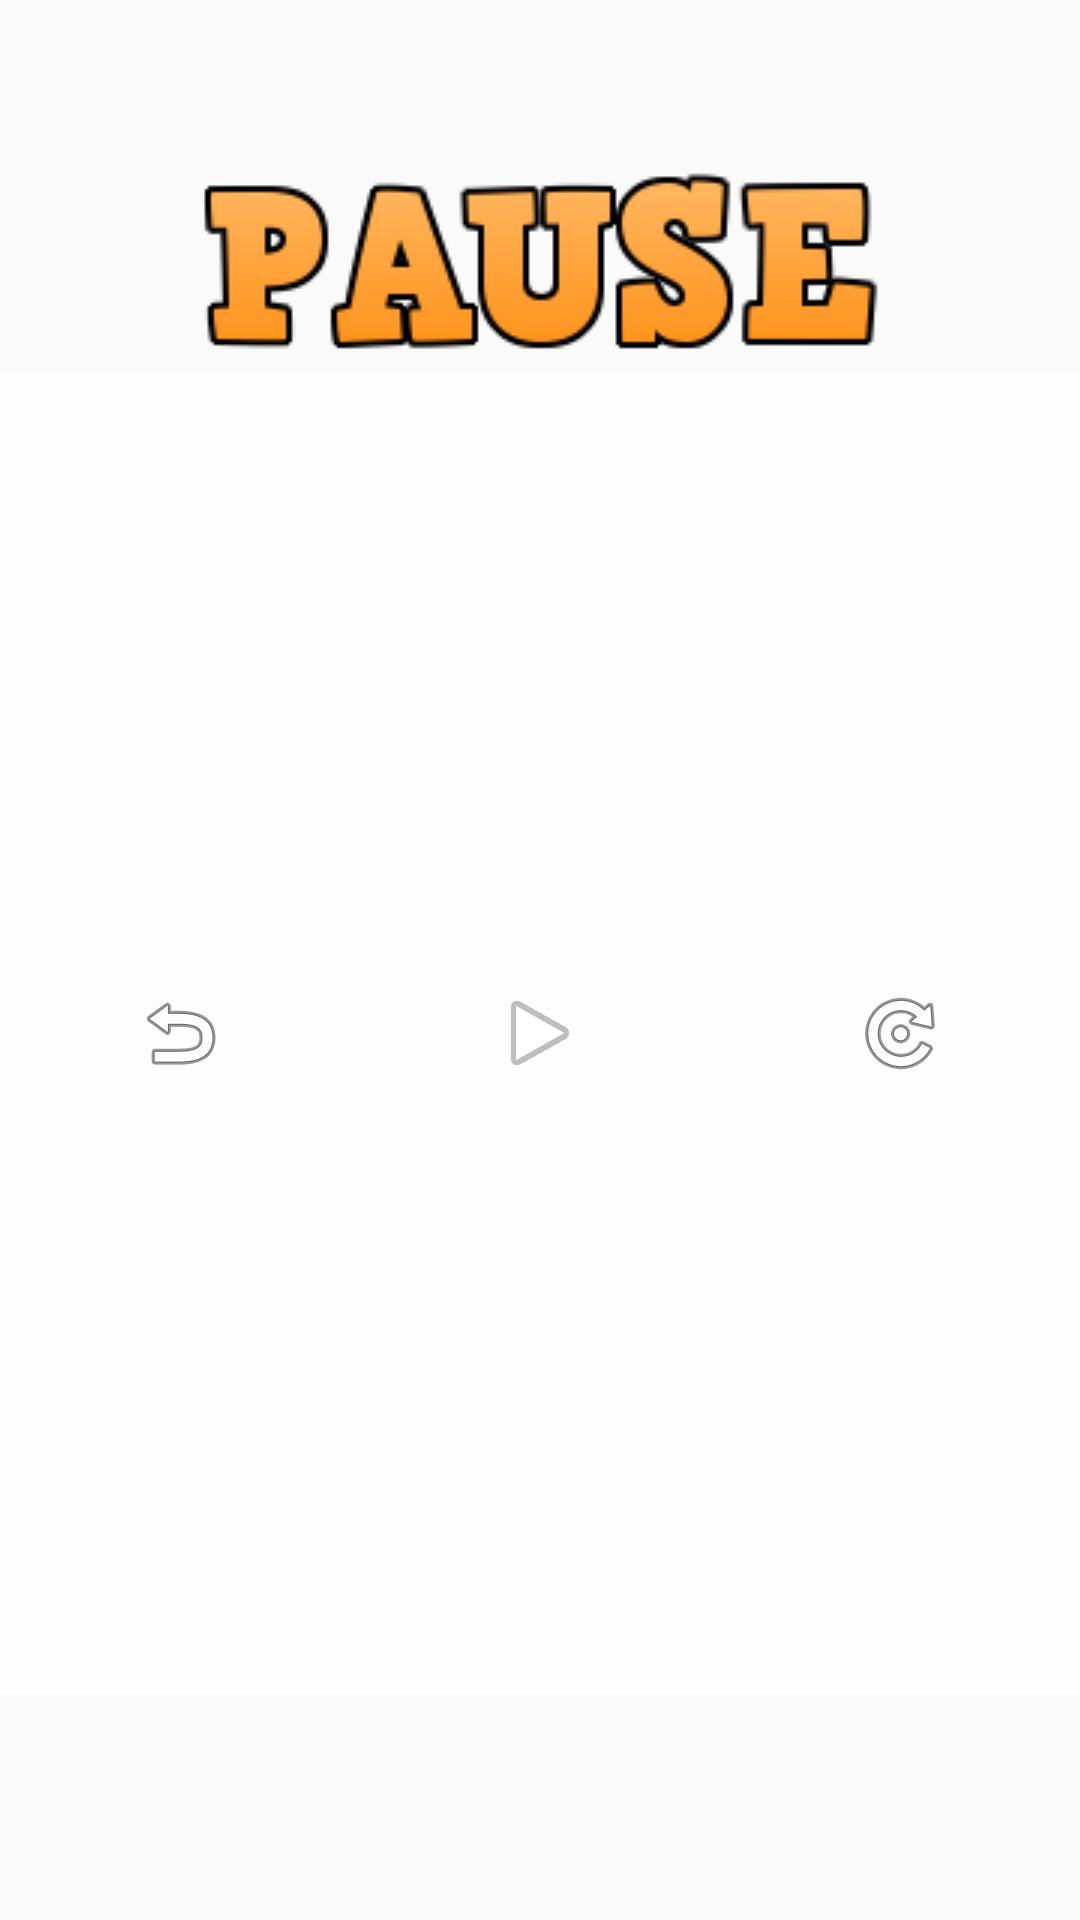

Named icons in this screenshot (1080*1920) and their centers, (x=x, y=y):
play: (x=540, y=1033)
revert: (x=181, y=1033)
rotate: (x=900, y=1033)
